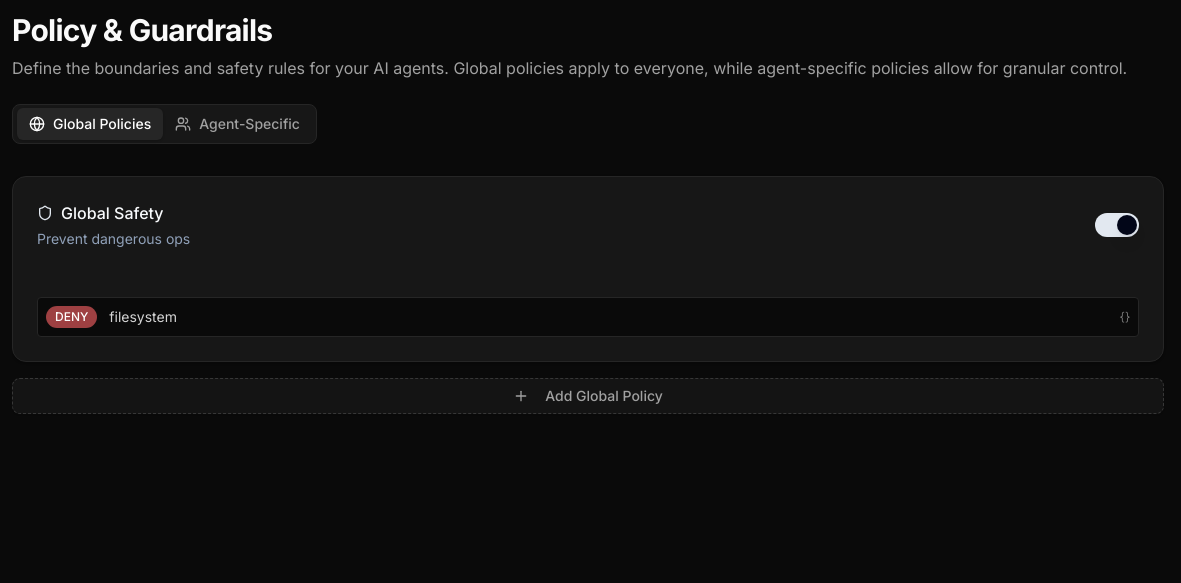
Test: PolicyPage › Interactions › should switch to Agent-Specific tab
Click the tab "Agent-Specific" at (238, 124), box left=163, top=108, right=312, bottom=140
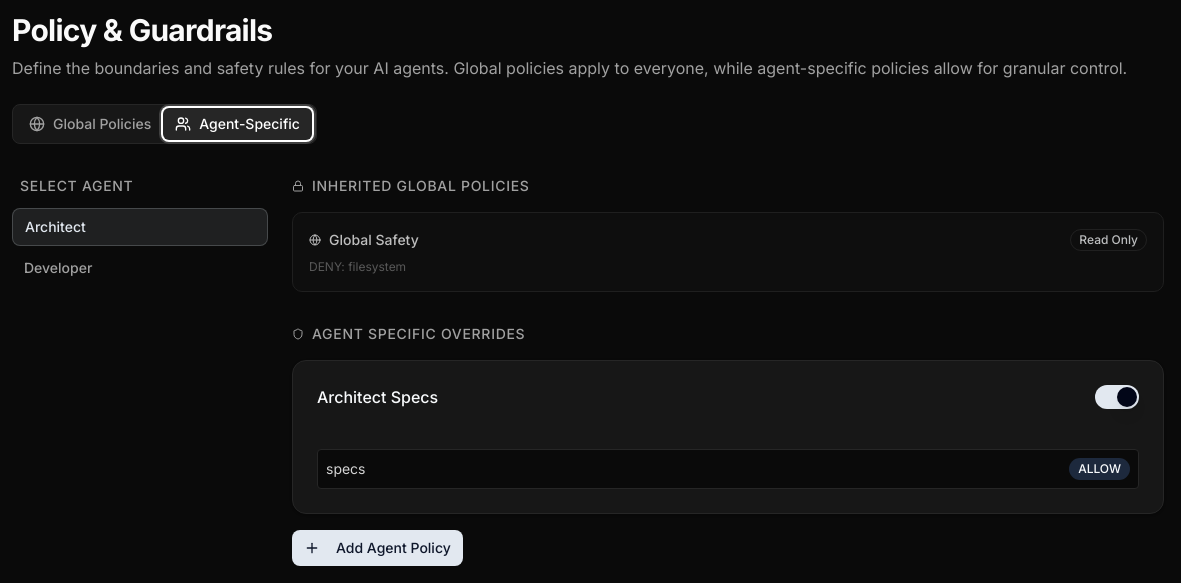
Check: the heading "Select Agent" is shown, box left=20, top=177, right=133, bottom=194
